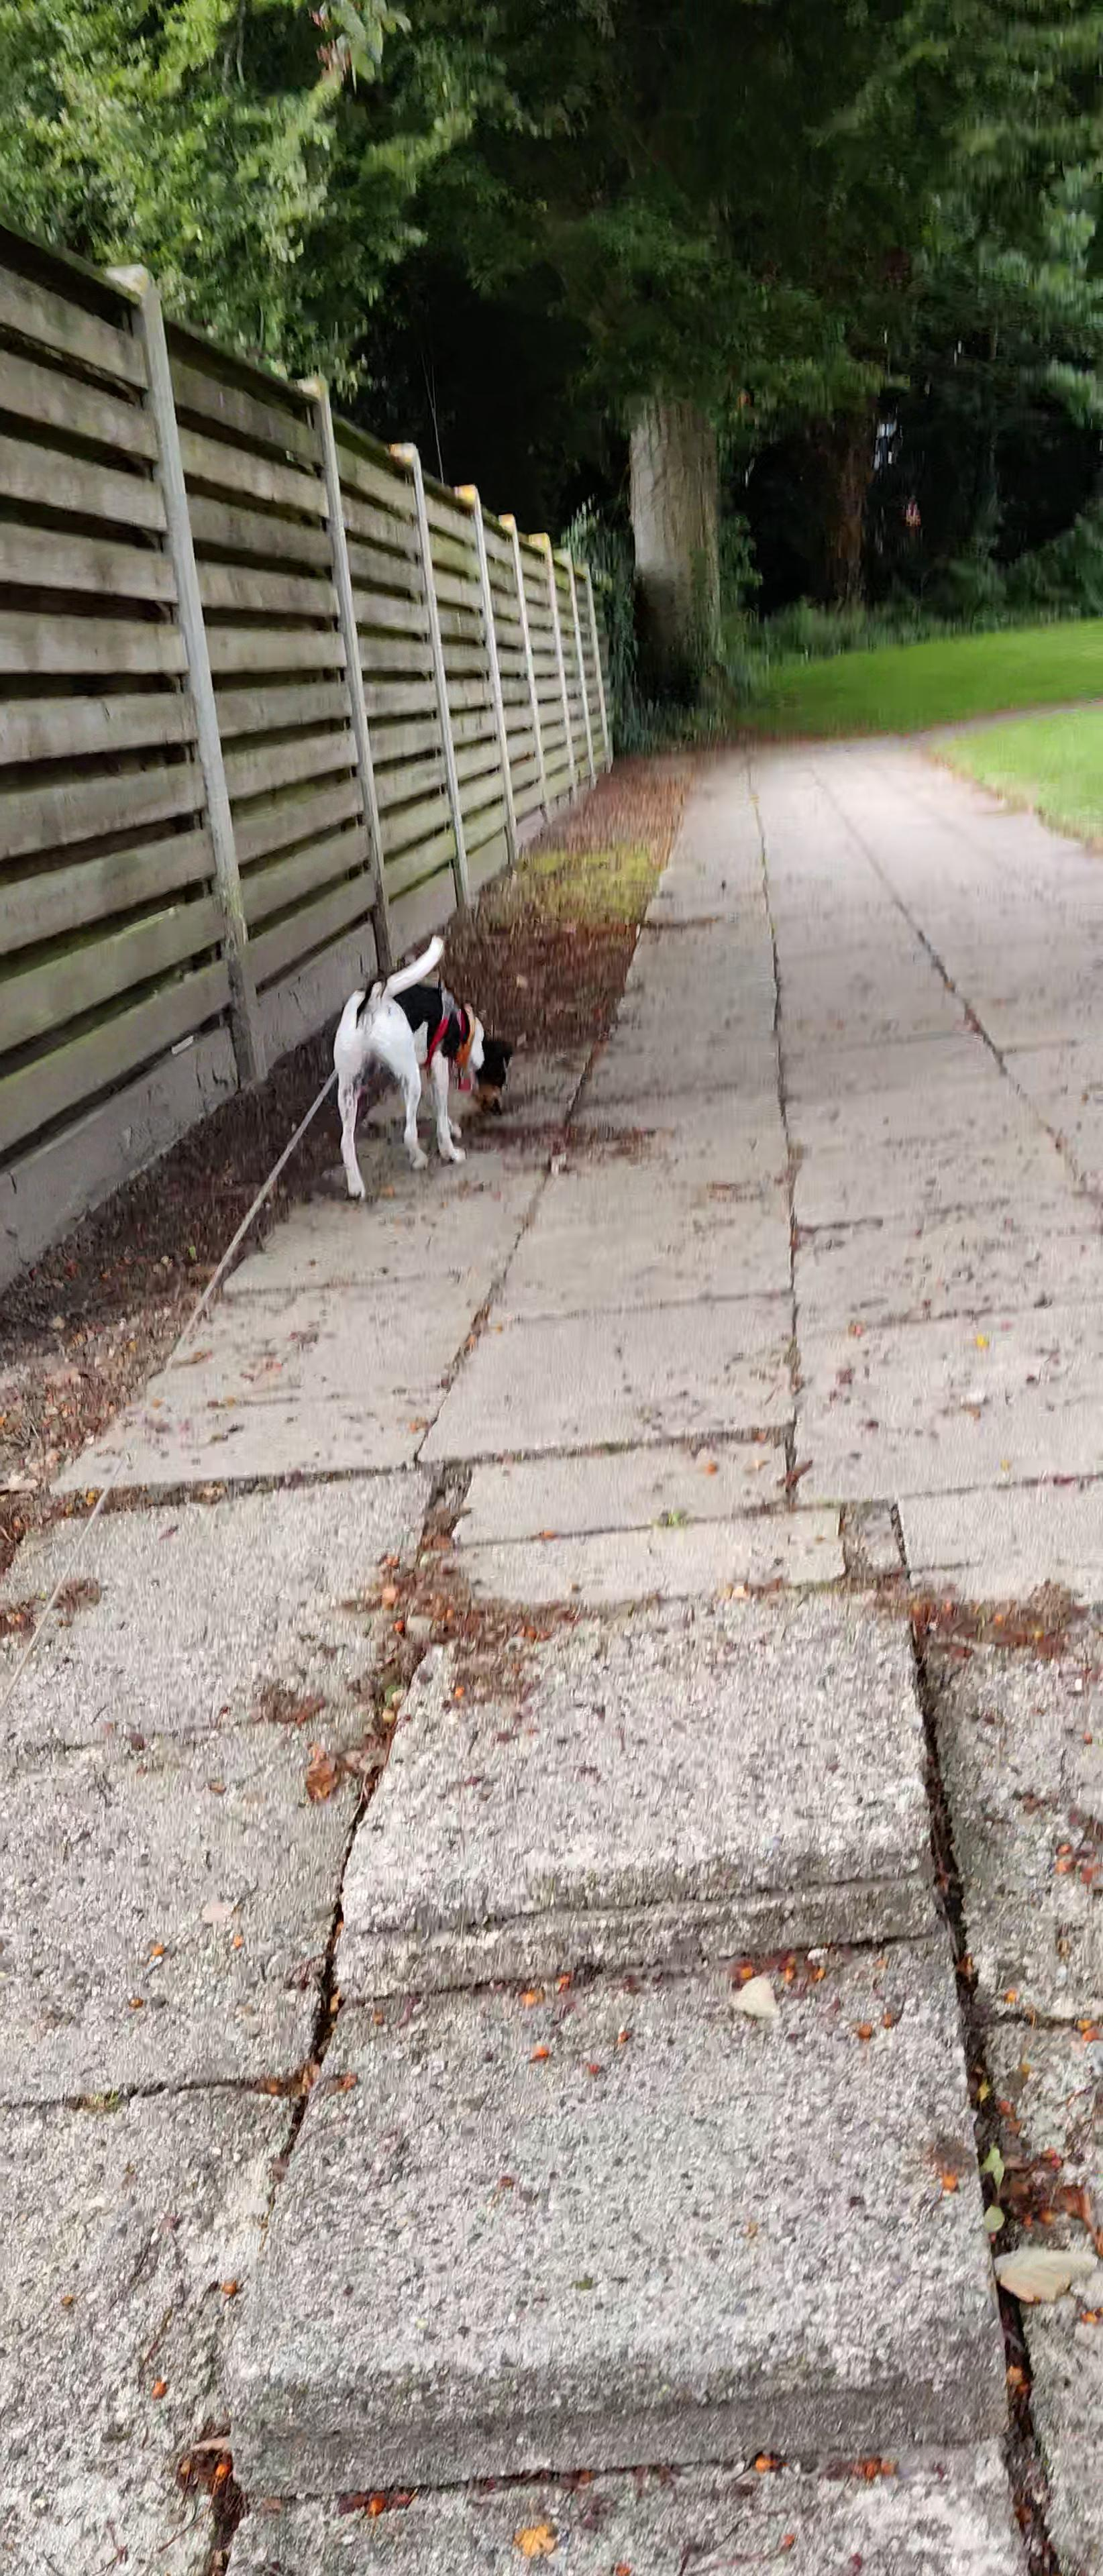Dog: (325, 928, 518, 1204)
